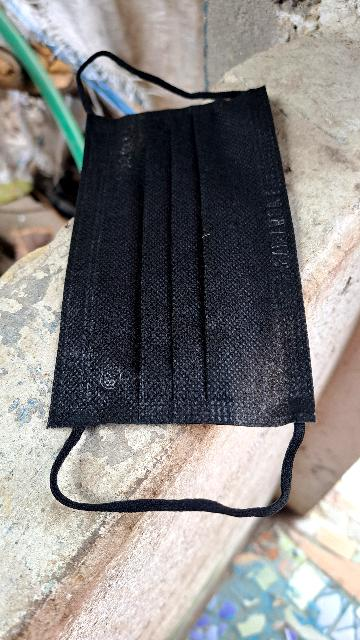mask: (40, 81, 315, 433)
